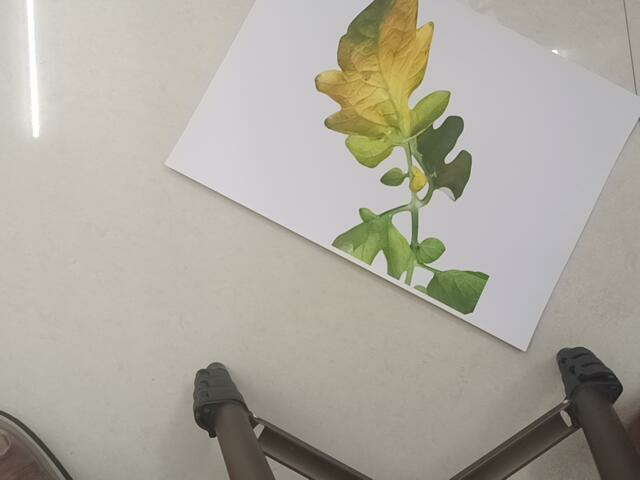Tomamto_Yellow_Disease: (320, 2, 517, 310)
